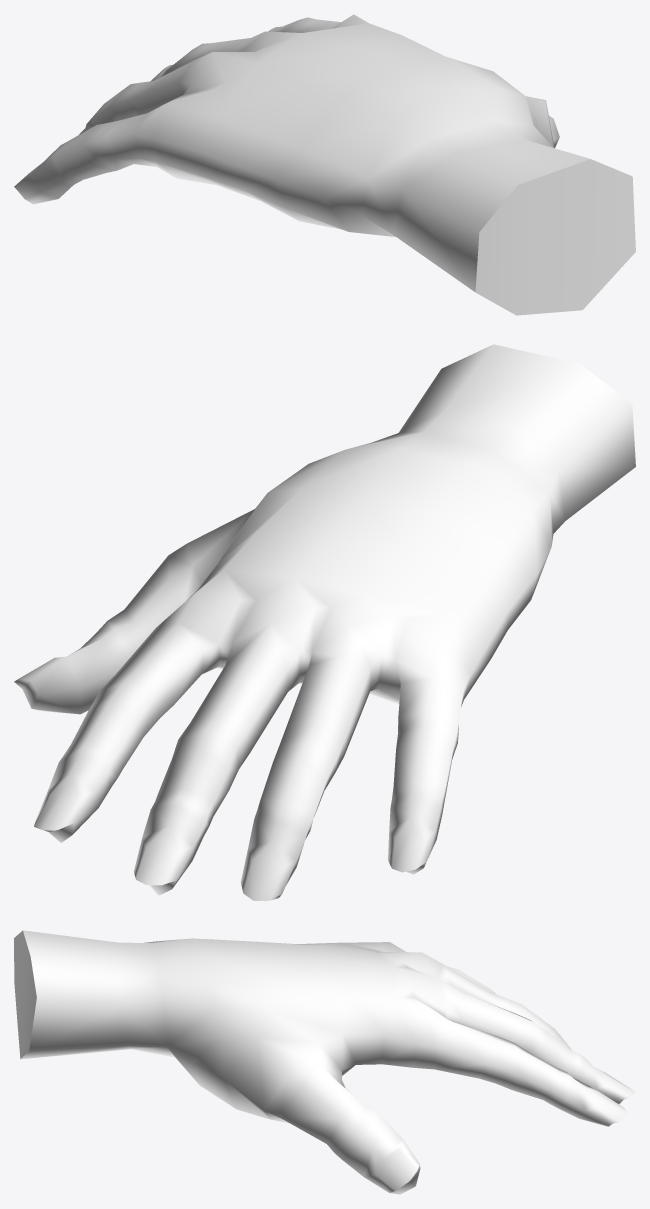
File: HandLeftEmpty.dae
3 renders of one model, top to bottom at view 1: azimuth 30°, elevation 25°; view 2: azimuth 150°, elevation 25°; view 3: azimuth 270°, elevation 25°, orthographic. The views are drawn at different scales.
Visible parts, largest first — view 1: polySurface2; view 2: polySurface2; view 3: polySurface2.
Boxes of the visible parts, bbox=[...] form: polySurface2: bbox=[14, 14, 635, 315]; polySurface2: bbox=[14, 344, 635, 901]; polySurface2: bbox=[14, 930, 635, 1194].
Bounding box in the file's own units: 10.64 × 5.17 × 16.19.
